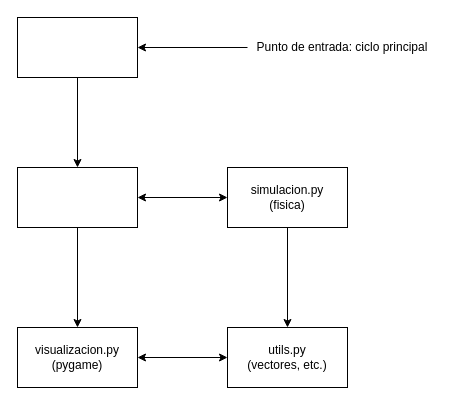
This 455x405 diagram has some shape labels left out. Here are the shapes that lost their labels. From the top down, the centre of each, then its label:
At (x=77, y=47): "main.py".
At (x=77, y=197): "interfaz.py (input)".
